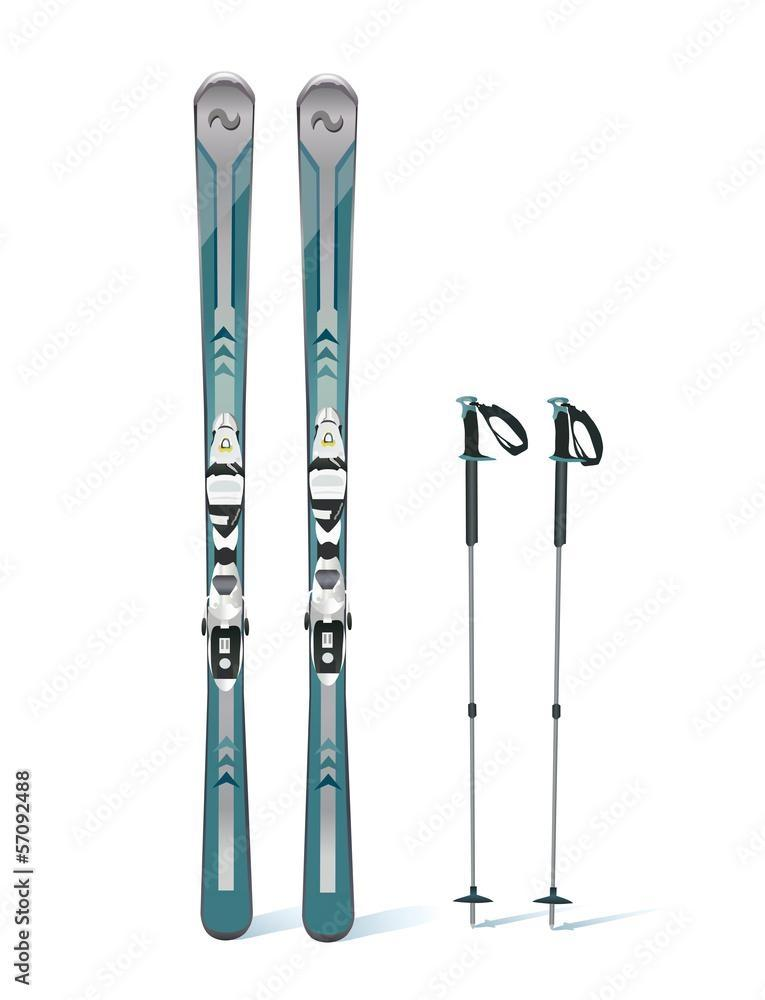Skis: (161, 58, 624, 944)
